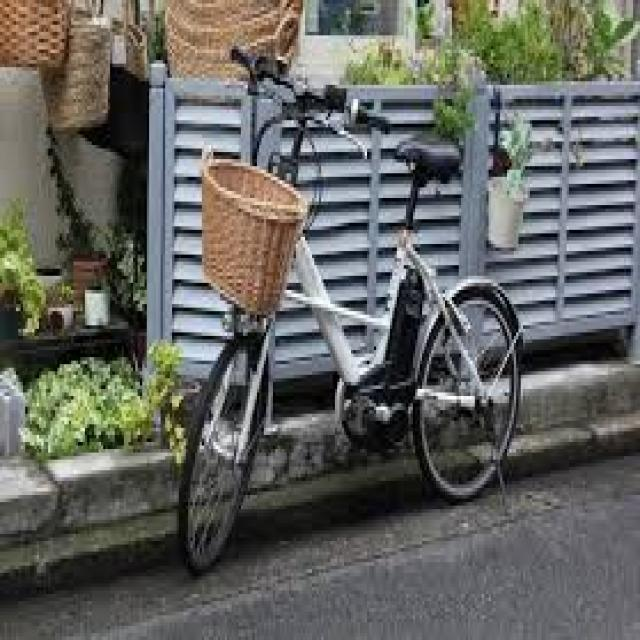basket: (202, 147, 307, 318)
